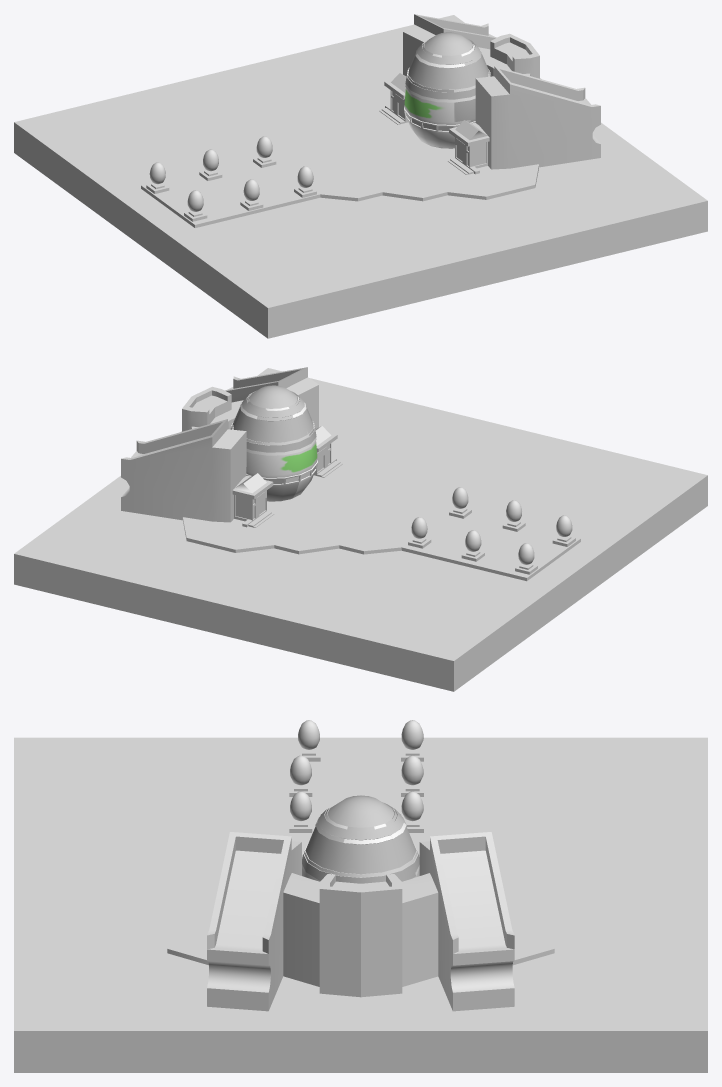
Rendered from egg.gltf.
The picture shows the model from 3 angles, top to bottom: view 1: azimuth 30°, elevation 25°; view 2: azimuth 150°, elevation 25°; view 3: azimuth 270°, elevation 25°; orthographic projection. The views are drawn at different scales.
Parts seen in each view (by area): view 1: Cube_1, Plane_1, Cube_1_4, Sphere_3_2, Cube_7, Cube_1_7, Tube, Cube_10, Tube_1; view 2: Cube_1, Plane_1, Cube_7, Sphere_3_2, Cube_1_4, Cube_10, Tube_1, Cube_1_7, Tube; view 3: Cube_1, Plane_1, Cube_7, Cube_1_4, Tube_1, Tube, Sphere_3_2, Cylinder, Cylinder_1.
Boxes of the visible parts, <box> form: Cube_1: <box>14,15,707,338</box>; Plane_1: <box>141,83,538,227</box>; Cube_1_4: <box>475,66,600,169</box>; Sphere_3_2: <box>404,32,491,148</box>; Cube_7: <box>403,14,496,76</box>; Cube_1_7: <box>448,120,489,174</box>; Tube: <box>478,33,529,76</box>; Cube_10: <box>379,73,407,124</box>; Tube_1: <box>493,43,539,78</box>; Cube_1: <box>14,368,707,691</box>; Plane_1: <box>182,436,580,581</box>; Cube_7: <box>121,419,246,522</box>; Sphere_3_2: <box>230,385,317,501</box>; Cube_1_4: <box>225,367,318,429</box>; Cube_10: <box>232,473,274,527</box>; Tube_1: <box>192,386,243,429</box>; Cube_1_7: <box>314,426,342,477</box>; Tube: <box>182,396,228,431</box>; Cube_1: <box>14,737,707,1072</box>; Plane_1: <box>167,751,554,965</box>; Cube_7: <box>419,832,514,1011</box>; Cube_1_4: <box>207,832,301,1011</box>; Tube_1: <box>283,873,360,997</box>; Tube: <box>361,873,438,997</box>; Sphere_3_2: <box>302,795,419,883</box>; Cylinder: <box>450,961,514,992</box>; Cylinder_1: <box>207,961,270,992</box>.
Size of the model in its own units: 9 by 2.64 by 9.
Materials: 4 (1 with a texture image).
